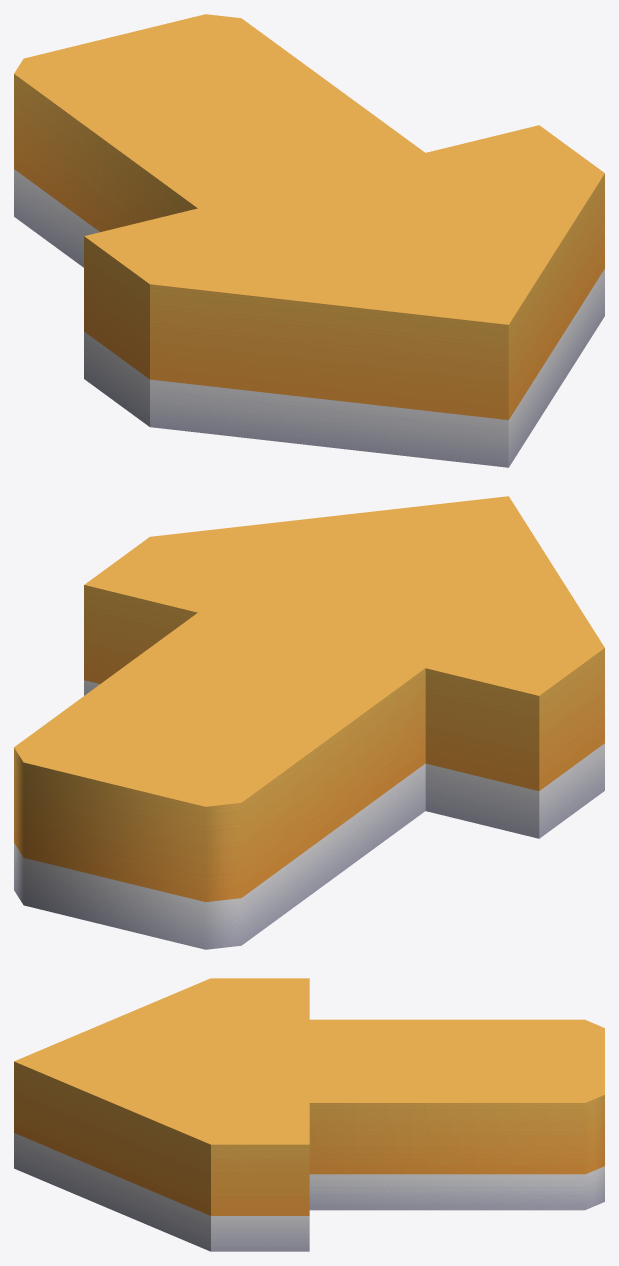
The model's file is arrow.glb.
3 views of the same model, one above another, from view 1: azimuth 30°, elevation 25°; view 2: azimuth 150°, elevation 25°; view 3: azimuth 270°, elevation 25° (orthographic). The views are drawn at different scales.
Parts seen in each view (by area): view 1: arrow; view 2: arrow; view 3: arrow.
Part boxes in pixels (x1=…): arrow: x1=14, y1=14, x2=604, y2=467; arrow: x1=14, y1=496, x2=604, y2=949; arrow: x1=14, y1=978, x2=604, y2=1251.
Size of the model in its own units: 2 by 0.6 by 3.
Materials: 1 (1 with a texture image).
